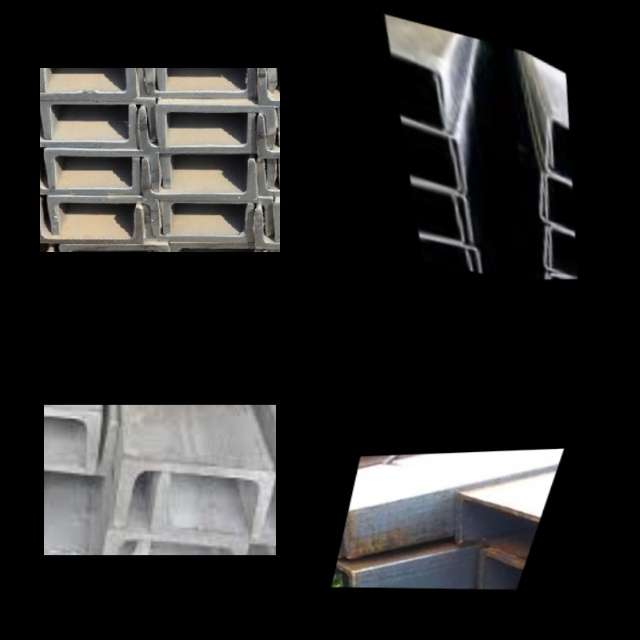Shveller: (116, 462, 270, 534), (154, 476, 276, 543), (397, 117, 469, 192), (387, 51, 451, 130), (387, 55, 447, 132), (398, 121, 462, 193), (44, 510, 145, 555), (49, 152, 157, 191), (408, 182, 476, 243), (142, 113, 254, 150), (45, 101, 154, 138), (40, 105, 135, 147), (146, 160, 253, 197), (159, 108, 272, 143), (51, 199, 158, 235), (44, 416, 114, 469), (408, 184, 466, 244), (40, 157, 137, 192), (44, 406, 97, 470), (40, 207, 142, 240), (145, 208, 252, 239), (139, 68, 253, 97), (165, 156, 272, 186), (164, 201, 271, 231), (105, 532, 244, 555), (534, 173, 578, 237), (40, 68, 133, 98), (40, 68, 152, 90), (160, 68, 274, 88), (540, 119, 575, 184), (539, 228, 580, 280), (541, 178, 578, 234), (473, 553, 529, 590), (544, 227, 580, 279), (63, 245, 169, 252), (261, 117, 280, 155), (260, 212, 280, 247), (176, 245, 275, 252), (261, 68, 280, 102)
